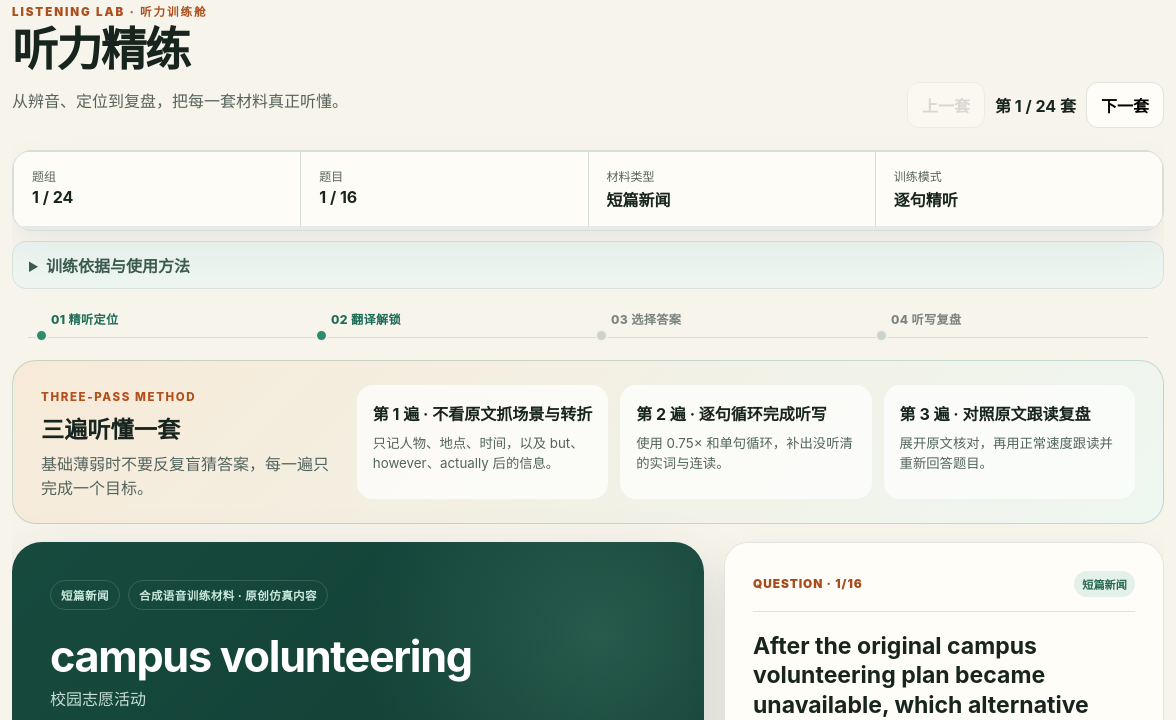
it: ListeningPage › moves through all 24 listening sets
Expected: the text "第 1 / 24 套" is shown, [995,93,1076,117]
Expected: the text "校园志愿活动" is shown, [50,689,146,709]
Click the button "下一套".
click(1125, 105)  # box [1086,82,1164,128]
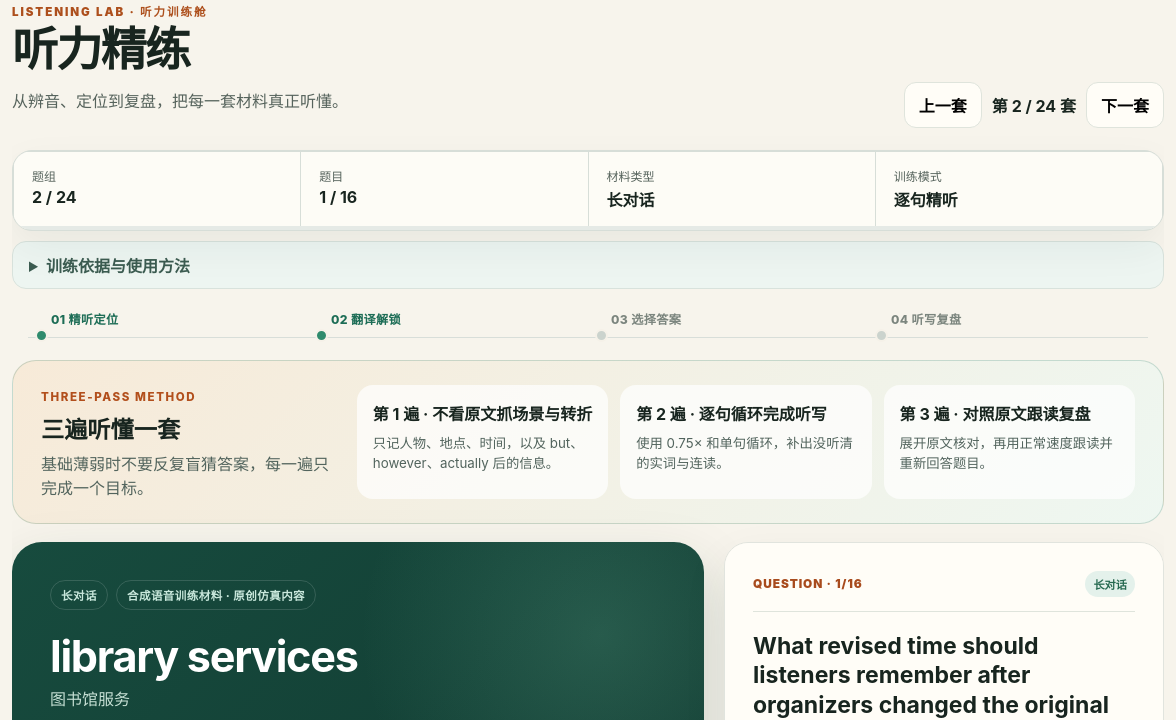
Result: the text "第 2 / 24 套" is shown at [992,93,1076,117]
Result: the text "图书馆服务" is shown at [50,689,130,709]
